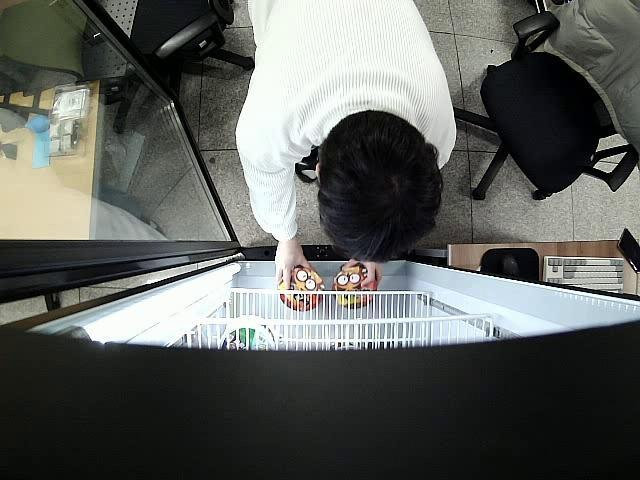05_nuguri_L: (278, 266, 324, 313), (334, 262, 377, 310)
